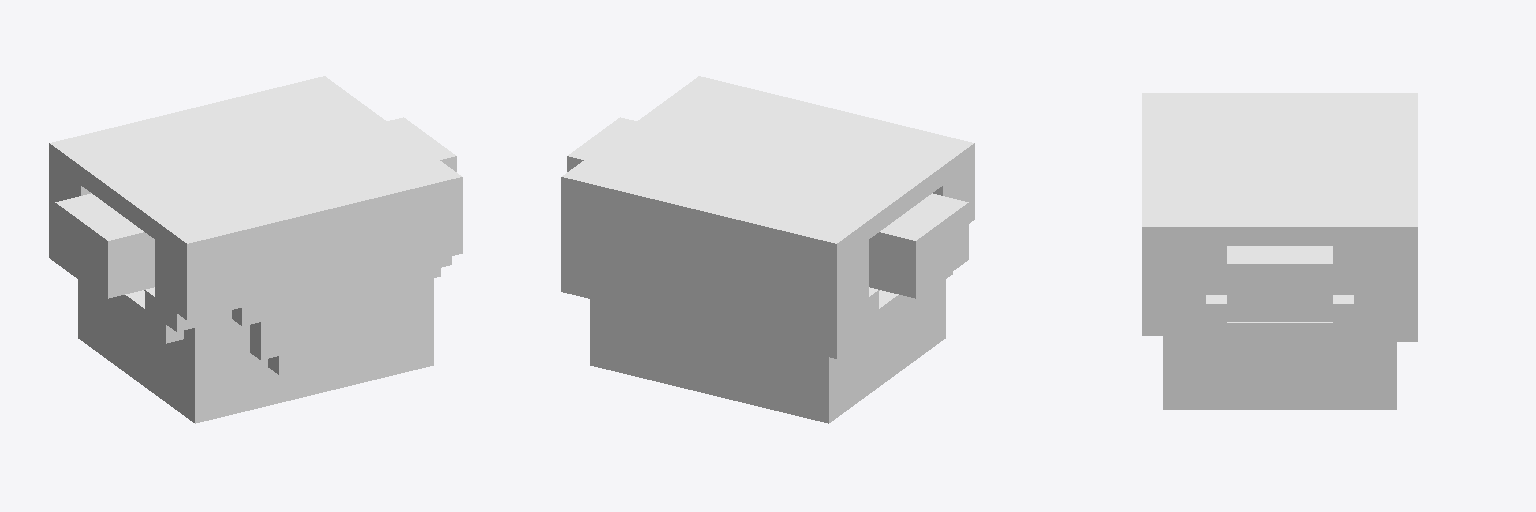
Rendered from body4.obj.
The picture shows the model from 3 angles: view 1: azimuth 30°, elevation 25°; view 2: azimuth 150°, elevation 25°; view 3: azimuth 270°, elevation 25°; orthographic projection.
Visible parts, largest first — view 1: object 1; view 2: object 1; view 3: object 1.
Part boxes in pixels (bbox=[...]): object 1: bbox=[49, 76, 462, 423]; object 1: bbox=[561, 76, 974, 423]; object 1: bbox=[1142, 93, 1417, 409].
Bounding box in the file's own units: 1.9 × 1 × 1.3.